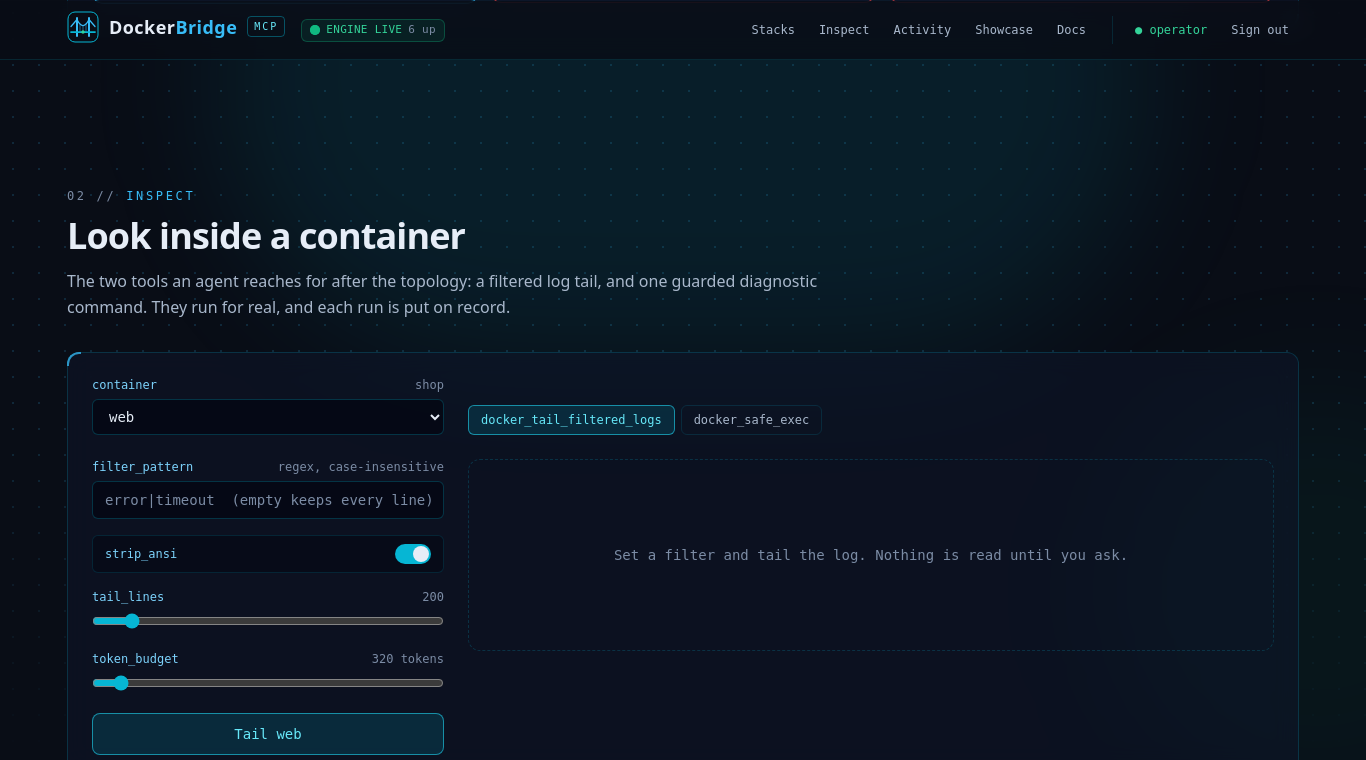
Scenario: running a command › warns that it refuses to run anything in its own stack
(page scrolled)
Expected: the dropdown labelled "container shop" is shown, [92,399,444,435]
Click the tab "docker_safe_exec".
click(751, 420)  # box [681,405,822,435]
(page scrolled)
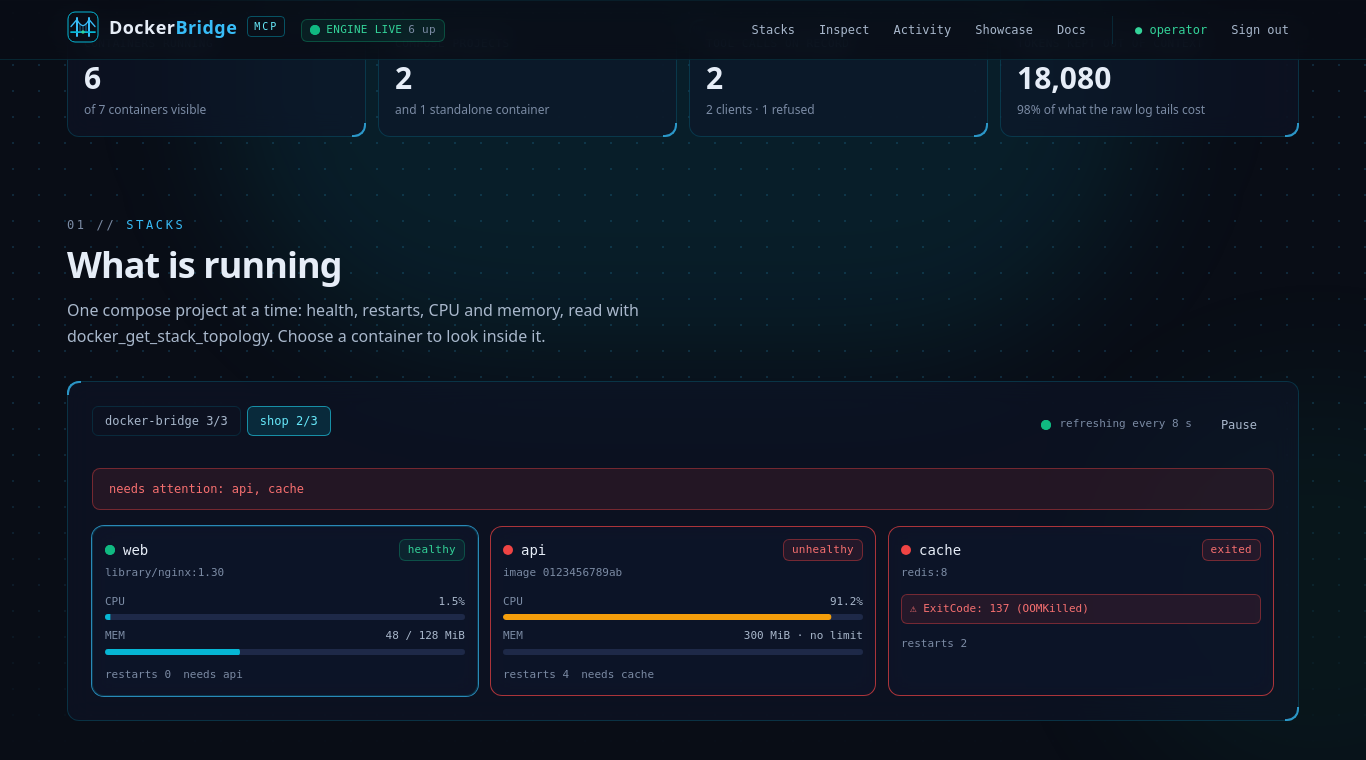
Click the tab "docker-bridge 3/3".
click(166, 420)  # box [92,406,241,436]
(page scrolled)
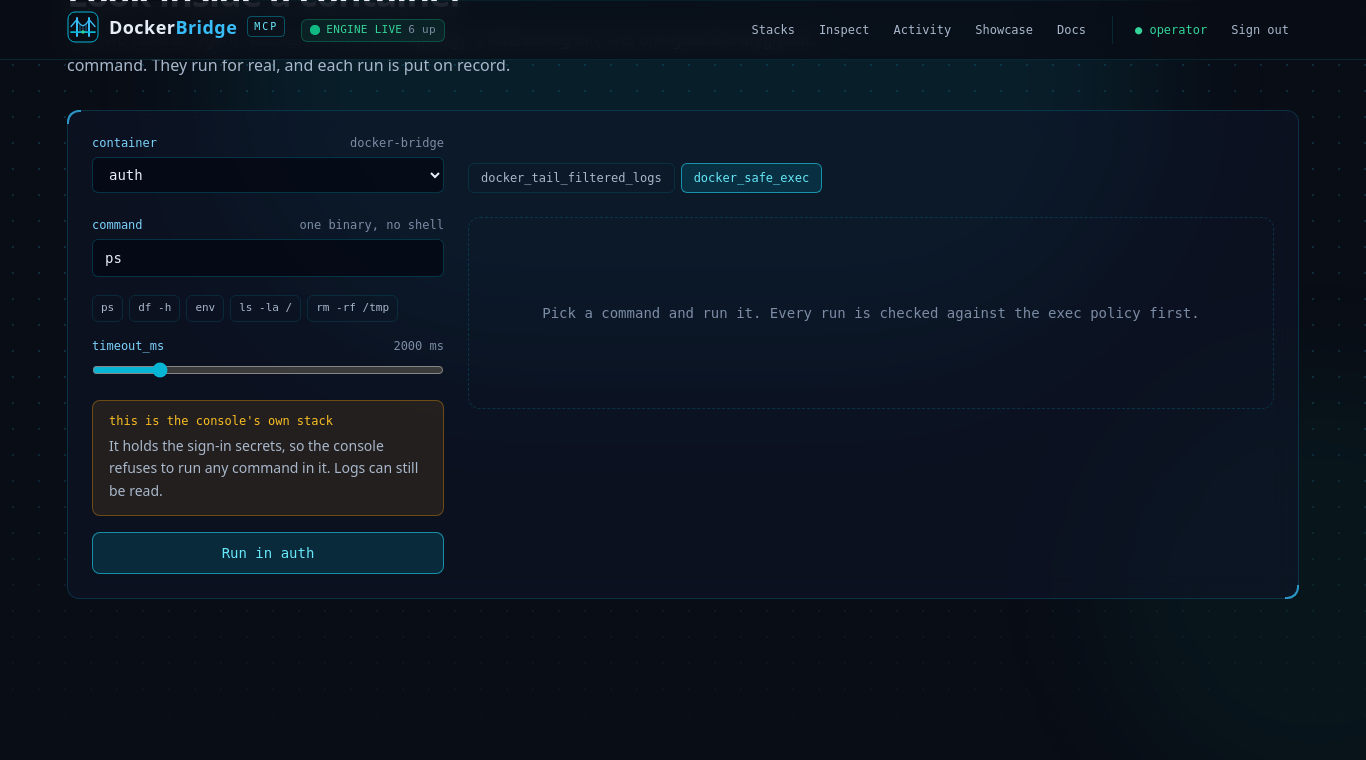
Now the text "this is the console's own stack" is shown, box [109,414,333,428]
